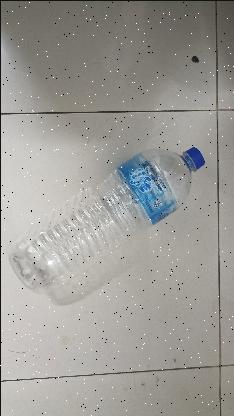Plastic Bottle: (0, 146, 203, 305)
